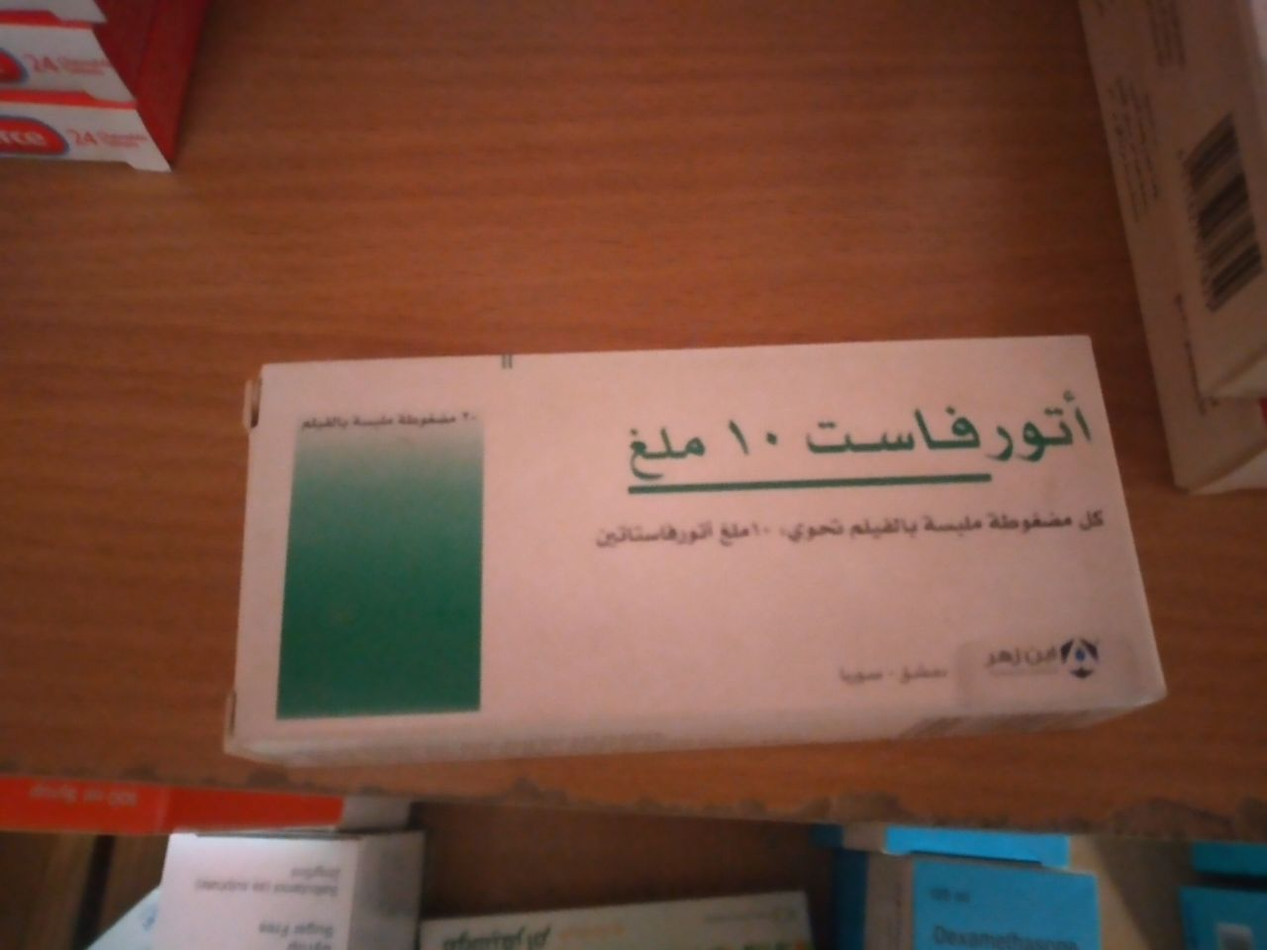Medicine: (228, 339, 1168, 764)
